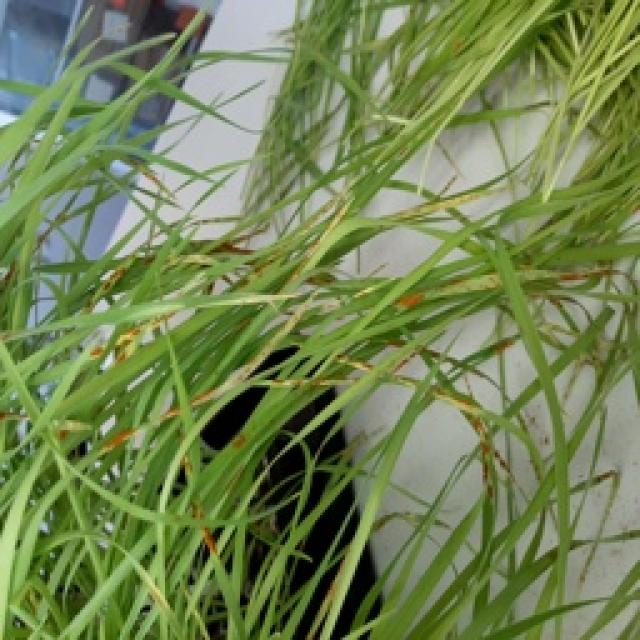Black Rust: (177, 340, 385, 638)
Healthy Wheat: (0, 0, 638, 638)
